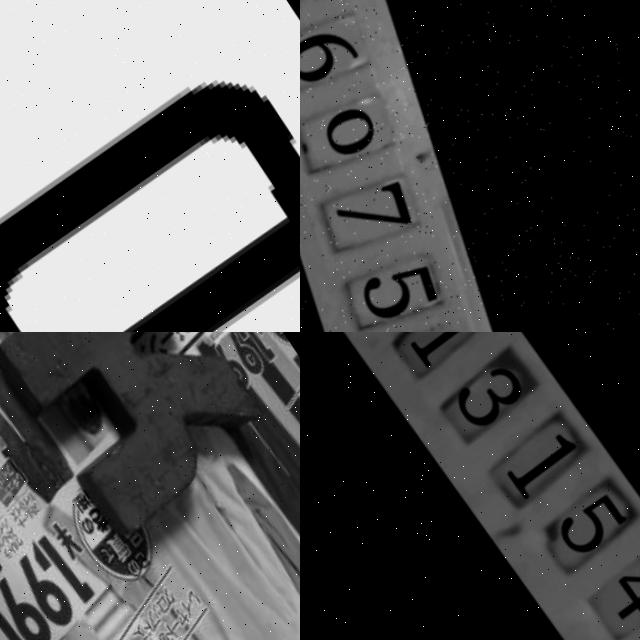0: (300, 68, 414, 193)
1: (484, 413, 591, 514), (387, 332, 490, 380)
3: (430, 346, 543, 452)
4: (579, 546, 640, 640)
5: (330, 229, 460, 332), (530, 475, 640, 579)
6: (300, 0, 385, 117)
7: (309, 154, 435, 277)
K: (0, 332, 278, 569)
Q: (0, 41, 300, 332)
